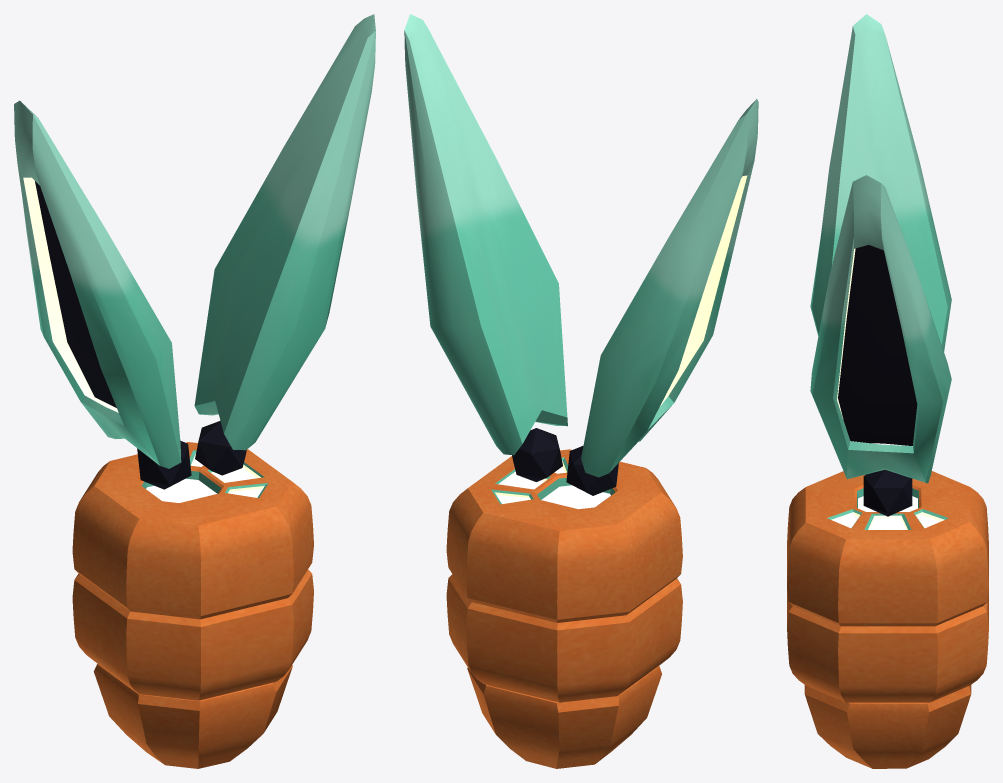
The model's file is Cenoura.fbx.
The picture shows the model from 3 angles, left to right: view 1: azimuth 30°, elevation 25°; view 2: azimuth 150°, elevation 25°; view 3: azimuth 270°, elevation 25°; orthographic projection. The views are drawn at different scales.
Visible parts, largest first — view 1: OrelhaD, Pata1E, OrelhaE, Pata1D, Rabinho, BaseOrelhaD, BaseOrelhaE; view 2: OrelhaD, Pata1E, OrelhaE, Pata1D, Rabinho, BaseOrelhaD, BaseOrelhaE; view 3: OrelhaD, Pata1E, OrelhaE, Pata1D, Rabinho, BaseOrelhaD.
Boxes of the visible parts, x1=… form: OrelhaD: x1=194, y1=14, x2=375, y2=450; Pata1E: x1=72, y1=442, x2=313, y2=619; OrelhaE: x1=14, y1=100, x2=181, y2=468; Pata1D: x1=72, y1=569, x2=313, y2=700; Rabinho: x1=93, y1=663, x2=292, y2=768; BaseOrelhaD: x1=195, y1=421, x2=246, y2=475; BaseOrelhaE: x1=137, y1=440, x2=191, y2=489; OrelhaD: x1=404, y1=14, x2=567, y2=455; Pata1E: x1=446, y1=449, x2=682, y2=622; OrelhaE: x1=581, y1=99, x2=758, y2=477; Pata1D: x1=446, y1=574, x2=682, y2=702; Rabinho: x1=467, y1=666, x2=661, y2=768; BaseOrelhaD: x1=512, y1=428, x2=562, y2=481; BaseOrelhaE: x1=566, y1=446, x2=618, y2=495; OrelhaD: x1=810, y1=175, x2=951, y2=483; Pata1E: x1=787, y1=471, x2=988, y2=626; OrelhaE: x1=810, y1=14, x2=951, y2=351; Pata1D: x1=787, y1=588, x2=988, y2=702; Rabinho: x1=804, y1=685, x2=971, y2=768; BaseOrelhaD: x1=863, y1=469, x2=912, y2=516.
Size of the model in its own units: 9.59 by 18.29 by 5.09.
